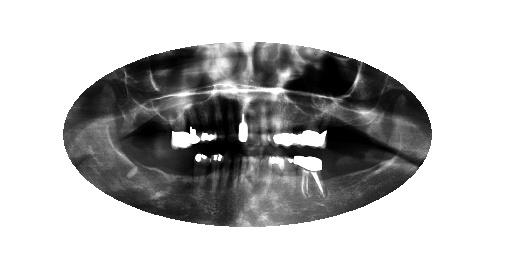Fillings: (306, 111, 328, 149), (172, 113, 190, 148), (273, 117, 291, 149), (291, 111, 306, 148), (194, 152, 208, 190), (200, 109, 216, 142), (190, 103, 202, 145), (209, 152, 222, 190)
Implant: (294, 156, 327, 200), (238, 107, 250, 143)
